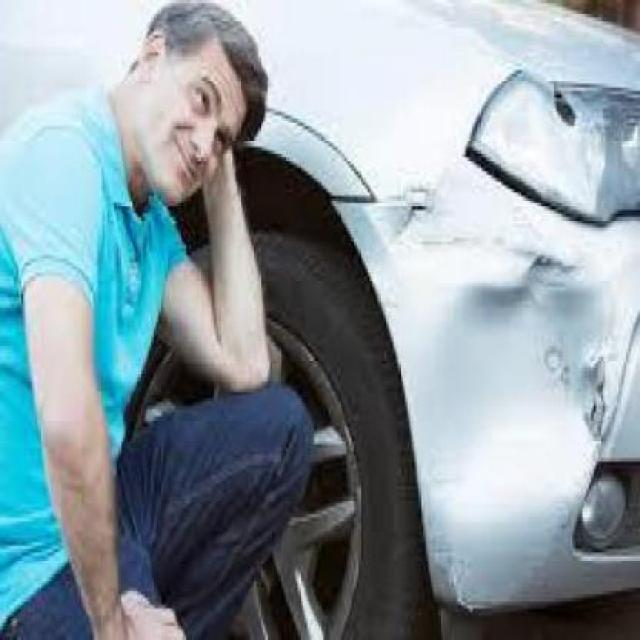damage: (356, 152, 628, 612)
